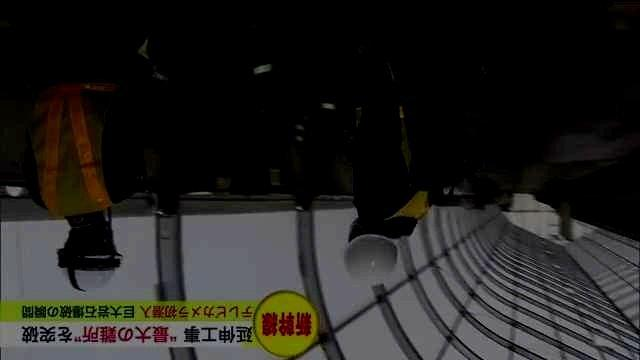helmet: (55, 219, 123, 295), (342, 214, 400, 285)
